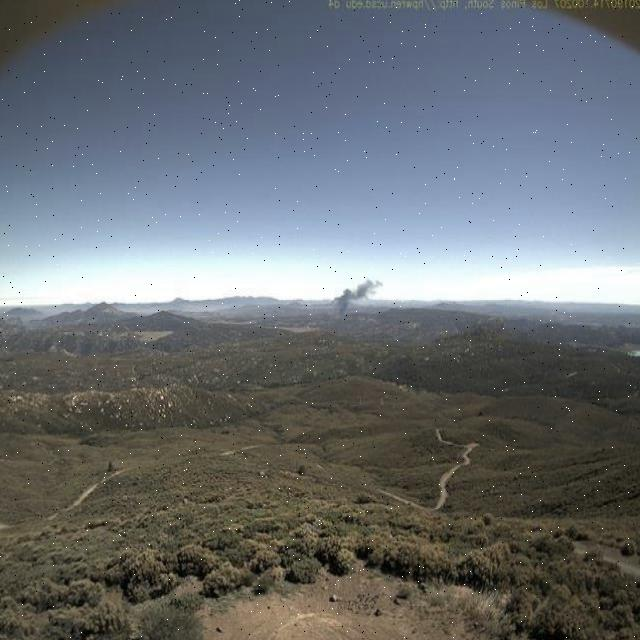smoke: (329, 267, 386, 318)
